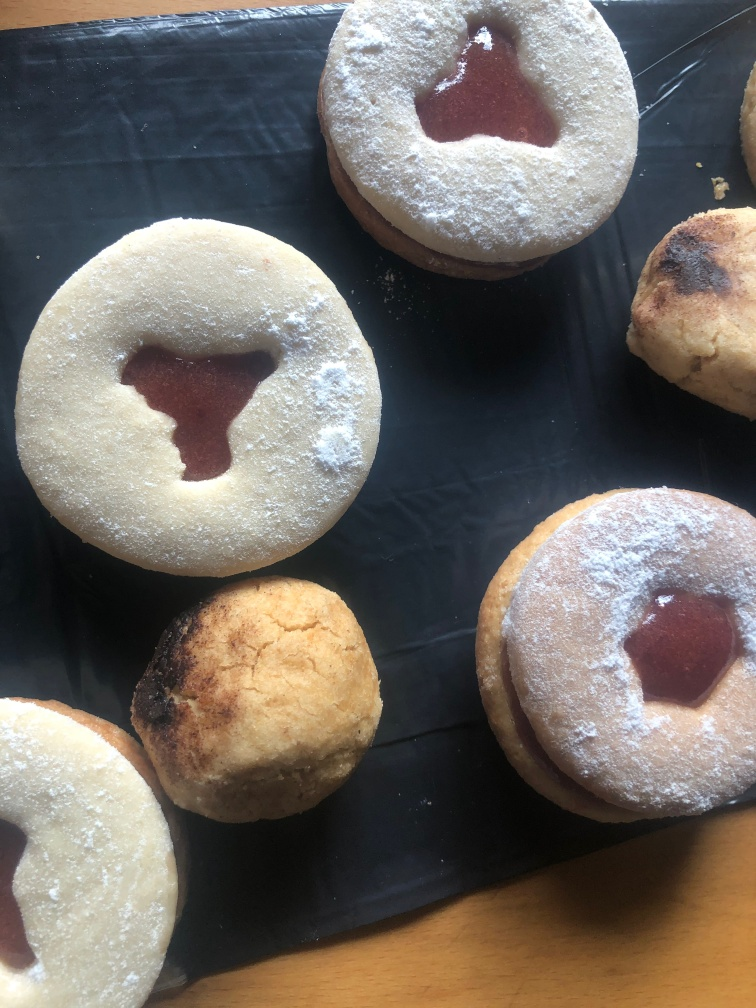christmas shortbread with jam: (15, 215, 383, 584), (473, 483, 756, 832), (321, 2, 647, 273), (1, 693, 181, 1008)
snowball: (137, 578, 389, 825), (625, 204, 756, 423)
